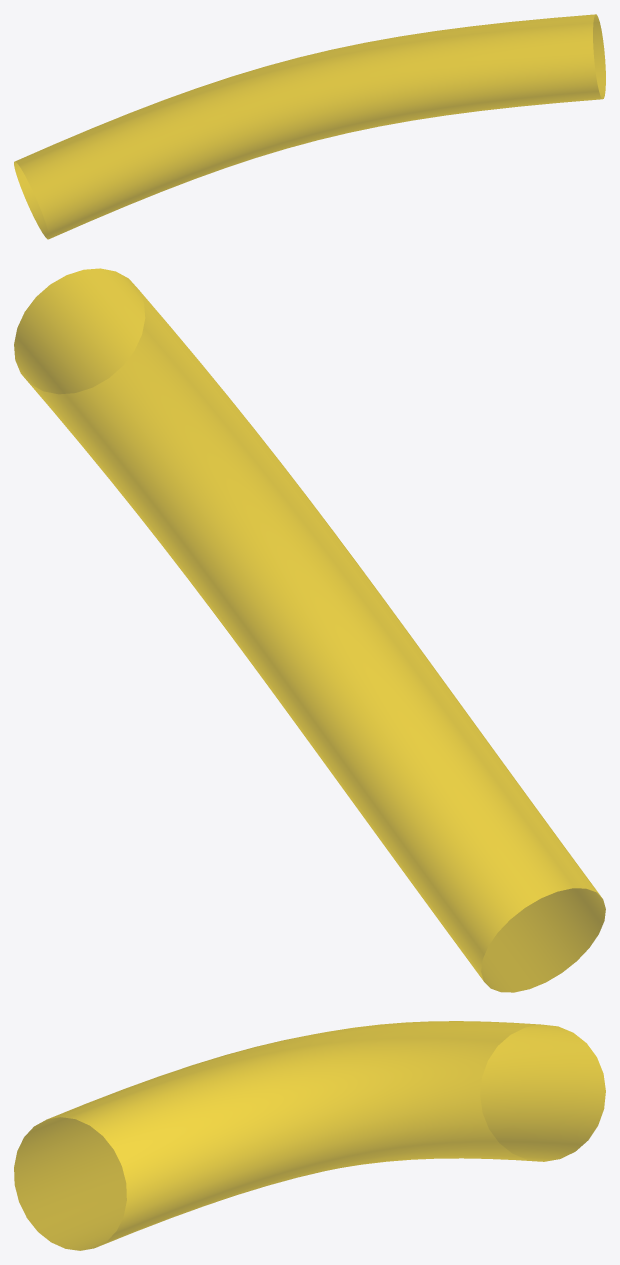
Rendered from Event_100608114_track_74.fbx.
The picture shows the model from 3 angles, top to bottom: view 1: azimuth 30°, elevation 25°; view 2: azimuth 150°, elevation 25°; view 3: azimuth 270°, elevation 25°; orthographic projection. The views are drawn at different scales.
Parts seen in each view (by area): view 1: Model; view 2: Model; view 3: Model.
Boxes of the visible parts, left/top/right/bottom form: Model: left=14, top=14, right=605, bottom=239; Model: left=14, top=268, right=605, bottom=992; Model: left=14, top=1021, right=605, bottom=1250.
Bounding box in the file's own units: 0.25 × 0.1148 × 0.1723.
